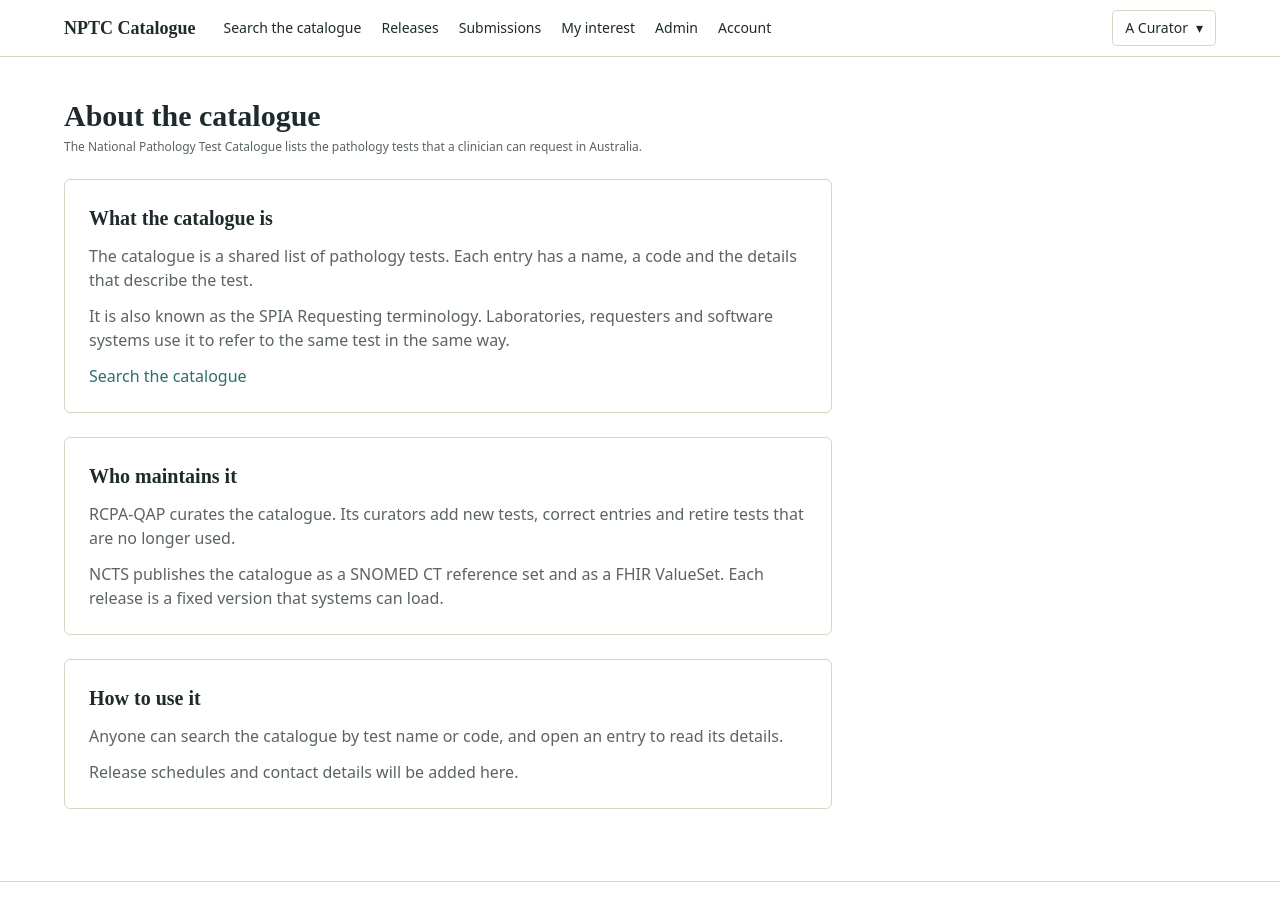
UserMenu disclosure (NFR-31) › starts closed and toggles aria-expanded on click
This screenshot has width=1280, height=900.
Expected: the link "Sign out" is not shown
Click the button "A Curator ▾" at (1164, 28), box [1112,10,1216,46]
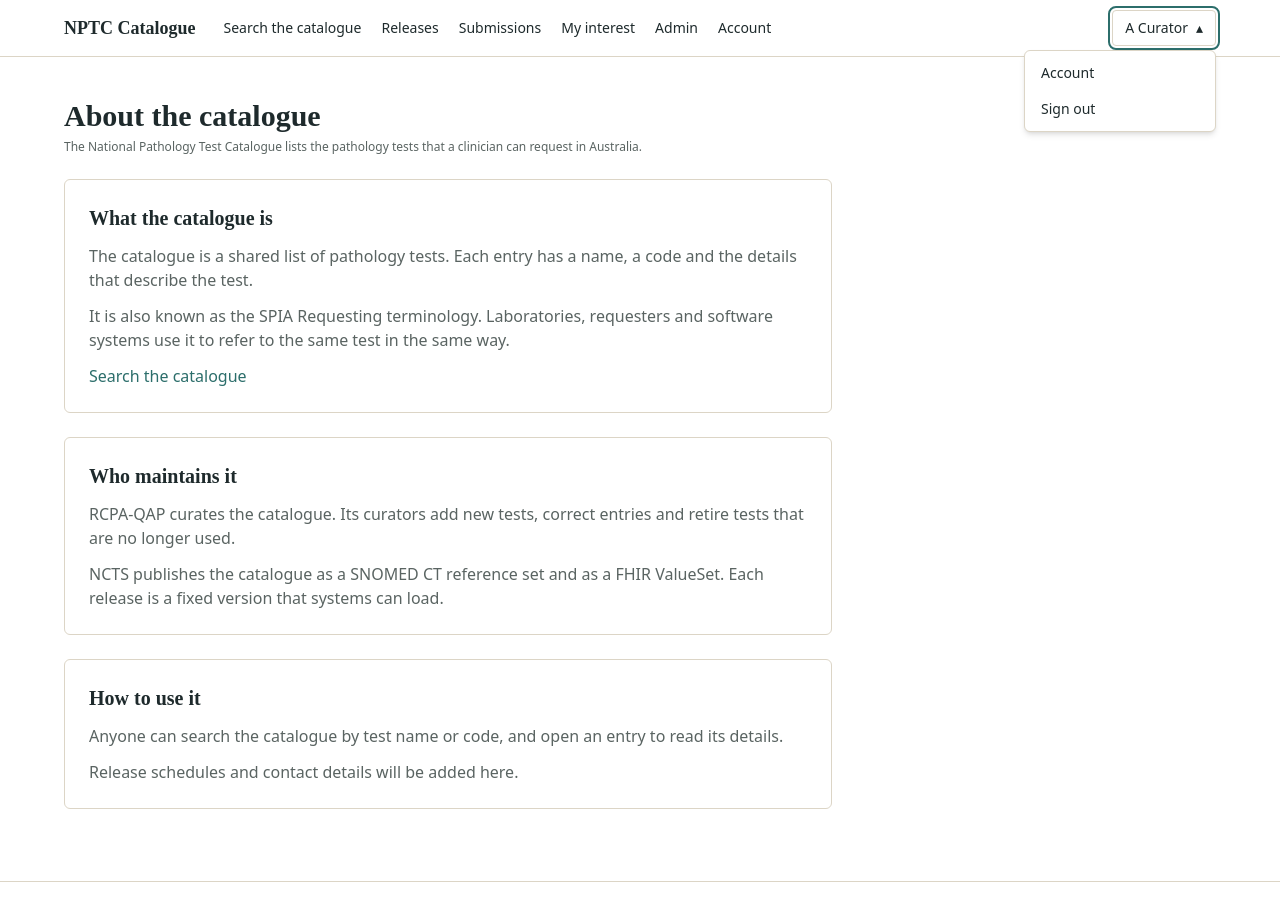
Expected: the button "A Curator ▴" is expanded
Expected: the 2nd link "Account" is shown, [1041,63,1094,82]
Click the button "A Curator ▴" at (1164, 28), box [1112,10,1216,46]
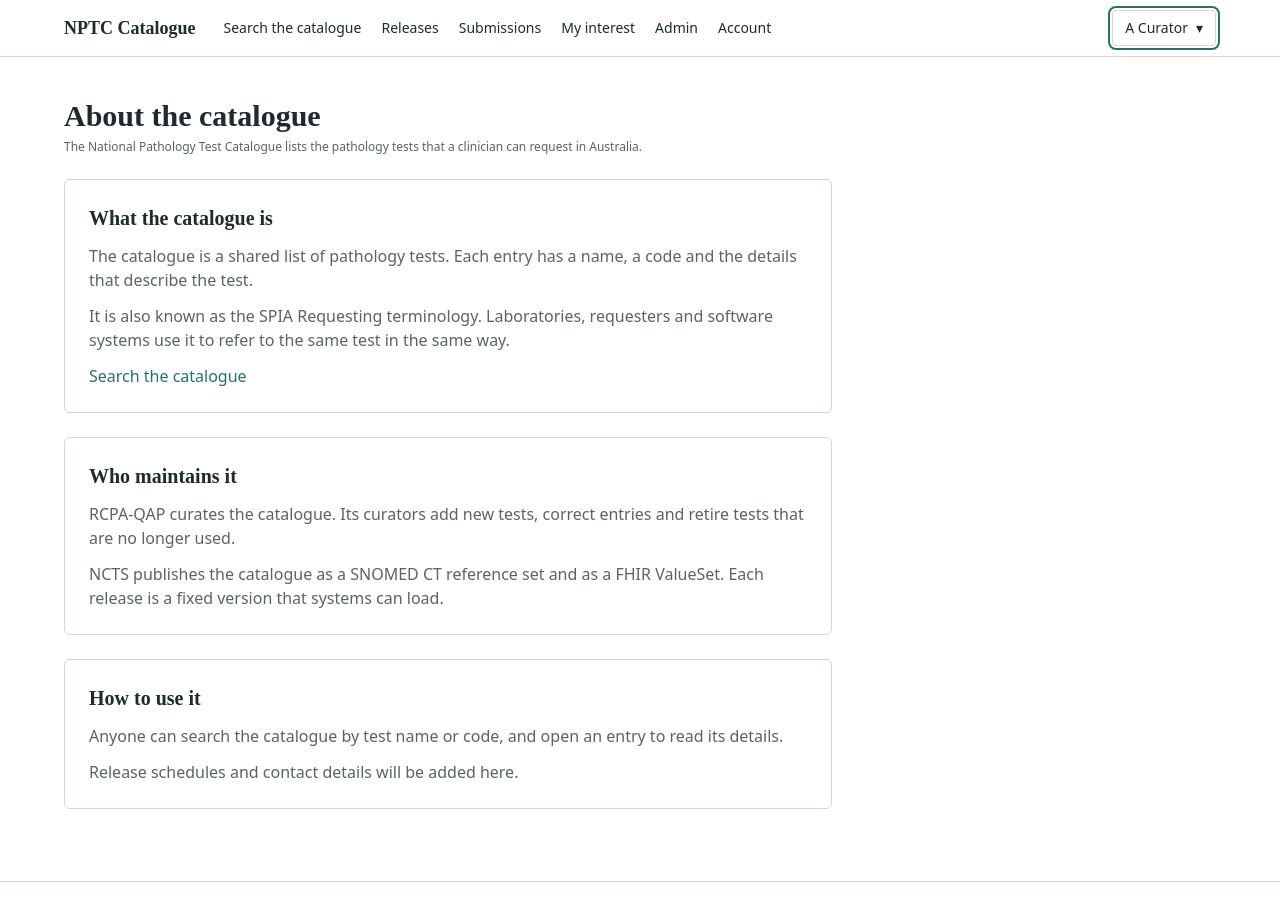
Expected: the button "A Curator ▾" is collapsed, [1112,10,1216,46]
